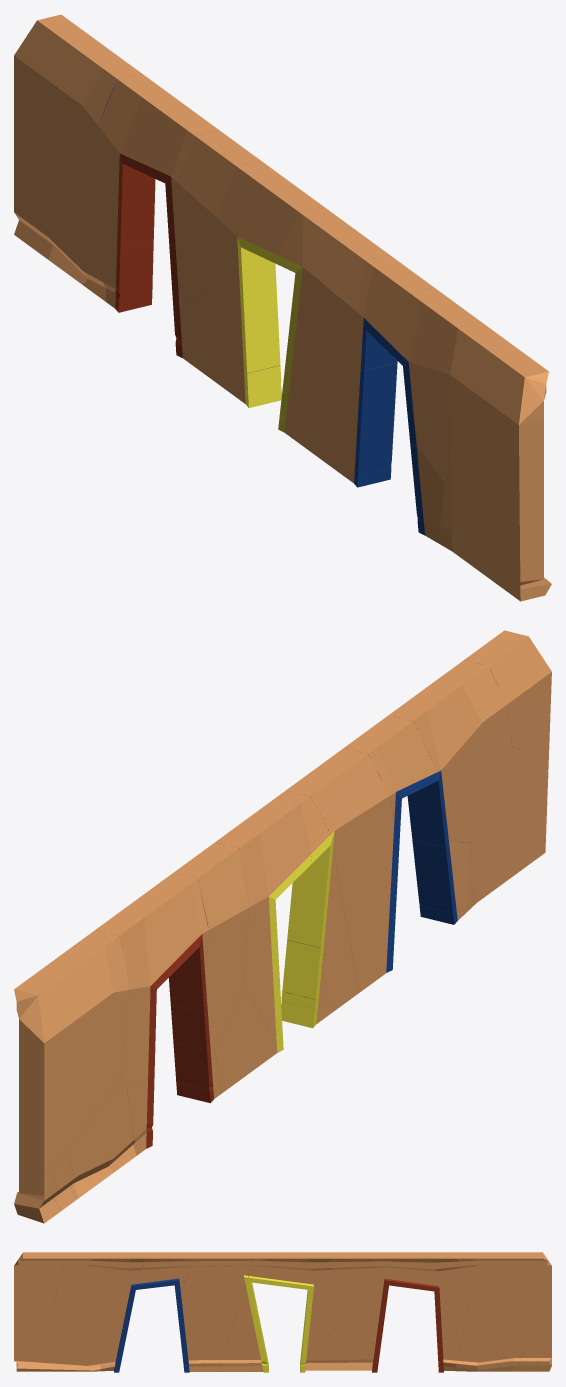
Rendered from Mur_25M_fracture.fbx.
The picture shows the model from 3 angles, top to bottom: view 1: azimuth 30°, elevation 25°; view 2: azimuth 150°, elevation 25°; view 3: azimuth 270°, elevation 25°; orthographic projection. The views are drawn at different scales.
Visible parts, largest first — view 1: Mur_Porte25M_cell.005, Mur_Porte25M_cell.011, Mur_Porte25M_cell.009, Mur_Porte25M_cell.002, Mur_Porte25M_cell.016, Mur_Porte25M_cell.018, Mur_Porte25M_cell.014, Mur_Porte25M_cell.003, Mur_Porte25M_cell.015, Mur_Porte25M_cell, Mur_Porte25M_cell.007, Mur_Porte25M_cell.012 (+6 smaller); view 2: Mur_Porte25M_cell.011, Mur_Porte25M_cell.005, Mur_Porte25M_cell.009, Mur_Porte25M_cell.016, Mur_Porte25M_cell.002, Mur_Porte25M_cell.003, Mur_Porte25M_cell.018, Mur_Porte25M_cell, Mur_Porte25M_cell.015, Mur_Porte25M_cell.014, Mur_Porte25M_cell.007, Mur_Porte25M_cell.004 (+7 smaller); view 3: Mur_Porte25M_cell.011, Mur_Porte25M_cell.005, Mur_Porte25M_cell.016, Mur_Porte25M_cell.018, Mur_Porte25M_cell.009, Mur_Porte25M_cell.002, Mur_Porte25M_cell.003, Mur_Porte25M_cell, Mur_Porte25M_cell.014, Mur_Porte25M_cell.007, Mur_Porte25M_cell.012, Mur_Porte25M_cell.015 (+6 smaller).
Part boxes in pixels (<box>): Mur_Porte25M_cell.005: <box>299,212,397,482</box>; Mur_Porte25M_cell.011: <box>14,14,141,200</box>; Mur_Porte25M_cell.009: <box>90,73,219,253</box>; Mur_Porte25M_cell.002: <box>212,160,321,386</box>; Mur_Porte25M_cell.016: <box>404,287,508,481</box>; Mur_Porte25M_cell.018: <box>438,444,551,601</box>; Mur_Porte25M_cell.014: <box>474,342,548,513</box>; Mur_Porte25M_cell.003: <box>170,130,260,305</box>; Mur_Porte25M_cell.015: <box>357,254,433,447</box>; Mur_Porte25M_cell: <box>277,205,331,463</box>; Mur_Porte25M_cell.007: <box>38,195,105,301</box>; Mur_Porte25M_cell.012: <box>183,288,245,403</box>; Mur_Porte25M_cell.011: <box>14,930,128,1173</box>; Mur_Porte25M_cell.005: <box>286,748,399,992</box>; Mur_Porte25M_cell.009: <box>95,873,208,1087</box>; Mur_Porte25M_cell.016: <box>389,660,511,842</box>; Mur_Porte25M_cell.002: <box>215,797,311,1038</box>; Mur_Porte25M_cell.003: <box>170,842,249,1049</box>; Mur_Porte25M_cell.018: <box>467,747,548,911</box>; Mur_Porte25M_cell: <box>276,790,358,1014</box>; Mur_Porte25M_cell.015: <box>344,715,450,847</box>; Mur_Porte25M_cell.014: <box>464,630,551,762</box>; Mur_Porte25M_cell.007: <box>68,1077,136,1199</box>; Mur_Porte25M_cell.004: <box>412,839,471,924</box>; Mur_Porte25M_cell.011: <box>457,1252,551,1344</box>; Mur_Porte25M_cell.005: <box>177,1252,254,1371</box>; Mur_Porte25M_cell.016: <box>55,1252,145,1335</box>; Mur_Porte25M_cell.018: <box>14,1300,101,1371</box>; Mur_Porte25M_cell.009: <box>374,1252,470,1336</box>; Mur_Porte25M_cell.002: <box>265,1252,340,1361</box>; Mur_Porte25M_cell.003: <box>330,1252,383,1343</box>; Mur_Porte25M_cell: <box>219,1252,269,1371</box>; Mur_Porte25M_cell.014: <box>14,1252,65,1323</box>; Mur_Porte25M_cell.007: <box>454,1323,526,1371</box>; Mur_Porte25M_cell.012: <box>305,1322,371,1370</box>; Mur_Porte25M_cell.015: <box>121,1252,193,1328</box>.
Size of the model in its own units: 97.11 by 500 by 2105.
